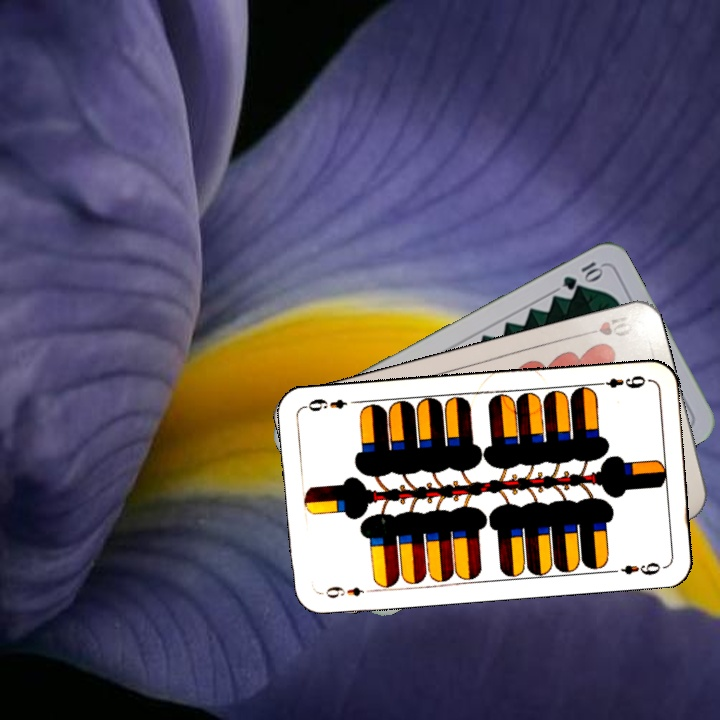E9: (592, 371, 648, 391), (317, 582, 366, 601)
G10: (558, 257, 606, 293)
H10: (577, 309, 637, 339)
